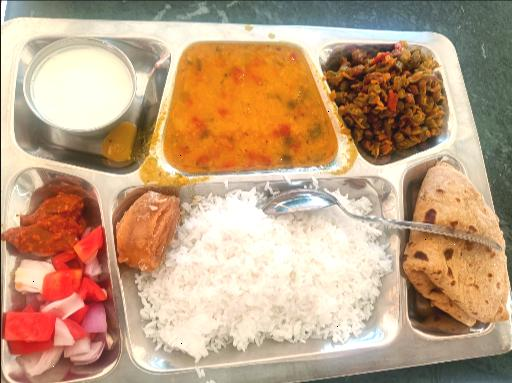Curd: (16, 34, 136, 135)
Dal: (168, 42, 324, 166)
Pickle: (0, 174, 88, 254)
Rice: (133, 186, 387, 356)
Roti: (398, 165, 508, 338)
Salad: (3, 263, 108, 370)
Sweet: (111, 189, 184, 272)
Vegetable: (336, 44, 448, 160)
